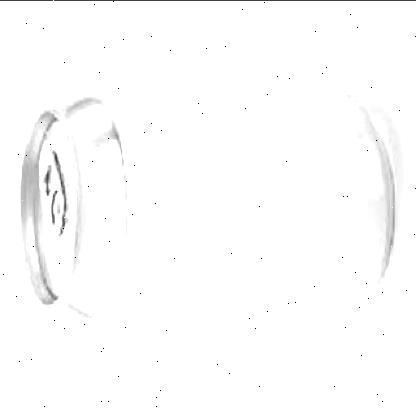Can: (19, 87, 406, 329)
